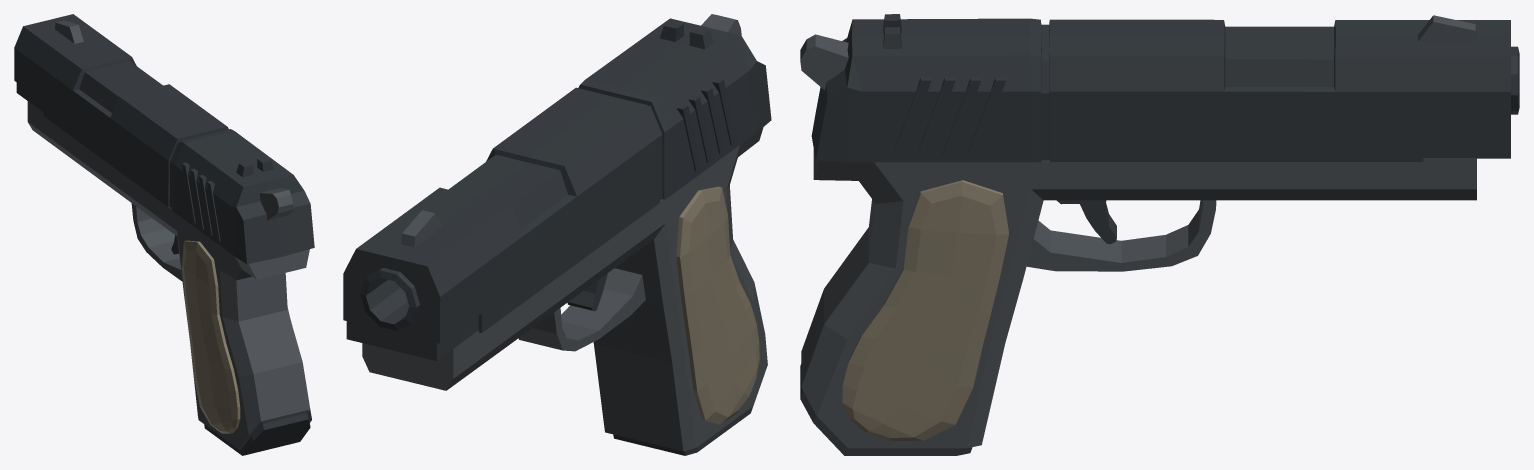
The model's file is pistol.glb.
3 renders of one model, left to right at view 1: azimuth 30°, elevation 25°; view 2: azimuth 150°, elevation 25°; view 3: azimuth 270°, elevation 25°, orthographic. The views are drawn at different scales.
Visible parts, largest first — view 1: PistolModel; view 2: PistolModel; view 3: PistolModel.
Part boxes in pixels (bbox=[...]): PistolModel: bbox=[14, 14, 314, 455]; PistolModel: bbox=[343, 14, 771, 455]; PistolModel: bbox=[800, 14, 1519, 455].
Bounding box in the file's own units: 0.0444 × 0.1596 × 0.25.
